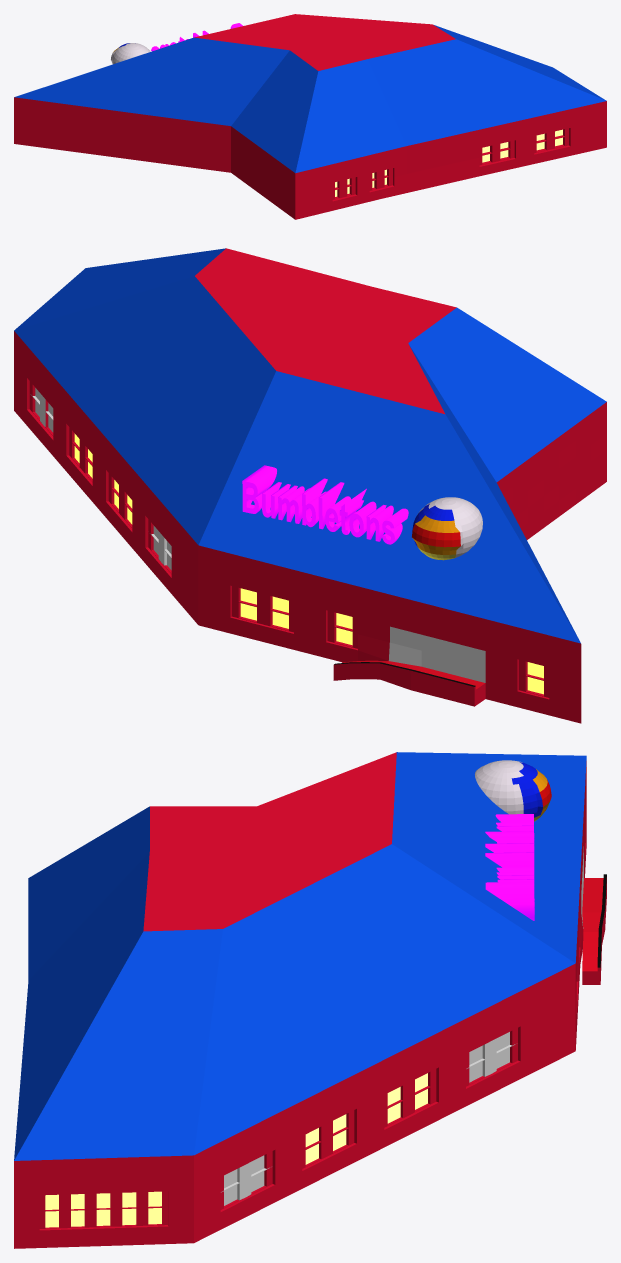
The model's file is bumbletons_el_garcia_boulevard.fbx.
The picture shows the model from 3 angles, top to bottom: view 1: azimuth 30°, elevation 25°; view 2: azimuth 150°, elevation 25°; view 3: azimuth 270°, elevation 25°; orthographic projection. The views are drawn at different scales.
Parts seen in each view (by area): view 1: bumbletons; view 2: bumbletons; view 3: bumbletons.
Part boxes in pixels (x1,y1,x2,y2): bumbletons: (14, 14, 606, 219); bumbletons: (14, 248, 606, 723); bumbletons: (14, 752, 606, 1248).
Bounding box in the file's own units: 396 × 101 × 245.
